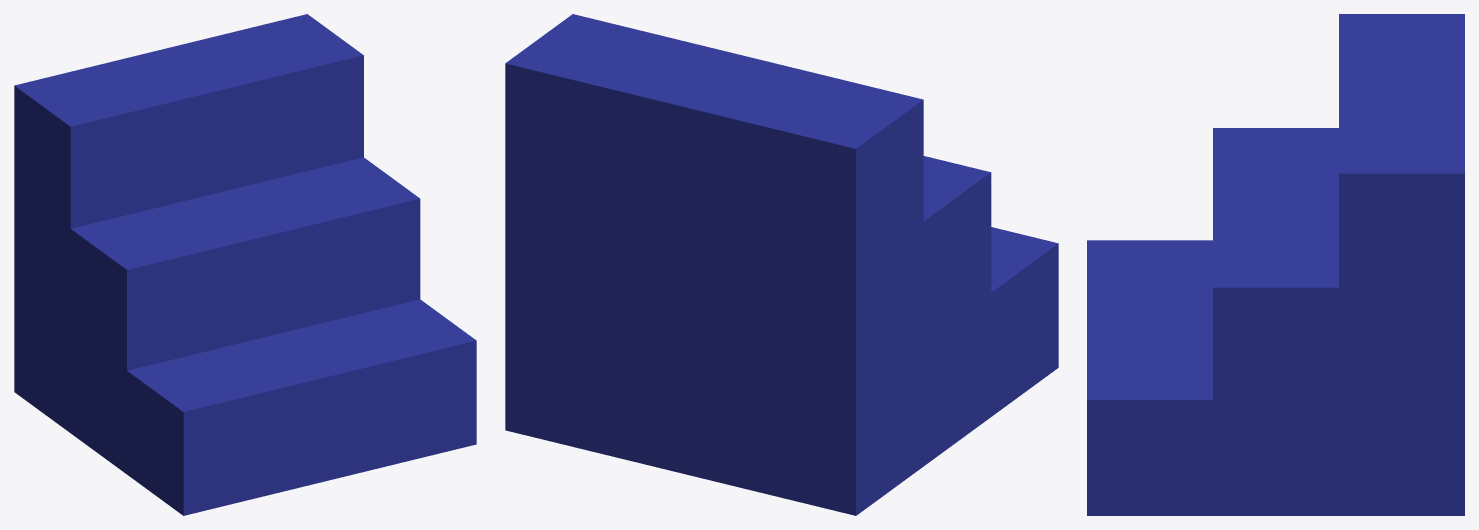
Rendered from scala.fbx.
3 renders of one model, left to right at view 1: azimuth 30°, elevation 25°; view 2: azimuth 150°, elevation 25°; view 3: azimuth 270°, elevation 25°, orthographic. The views are drawn at different scales.
Visible parts, largest first — view 1: scala_center; view 2: scala_center; view 3: scala_center.
Boxes of the visible parts, <box> form: scala_center: <box>14,14,476,515</box>; scala_center: <box>505,14,1058,515</box>; scala_center: <box>1087,14,1464,515</box>.
Size of the model in its own units: 1 by 0.9995 by 1.
